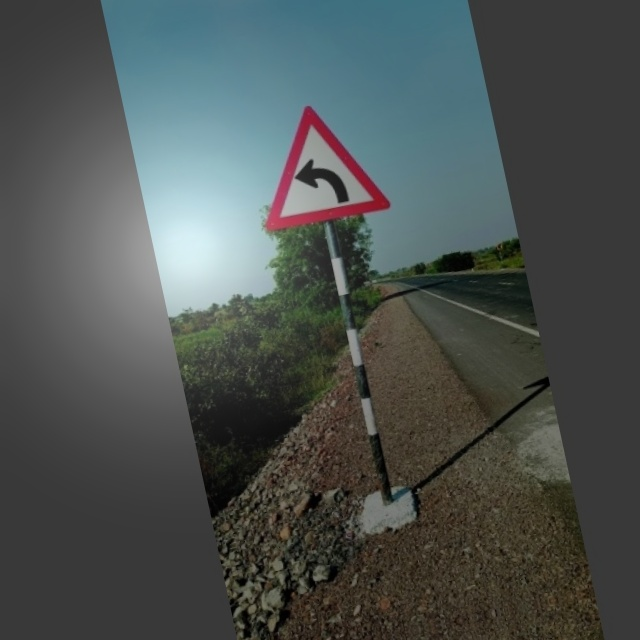Left_Hand_Curve: (248, 90, 389, 239)
